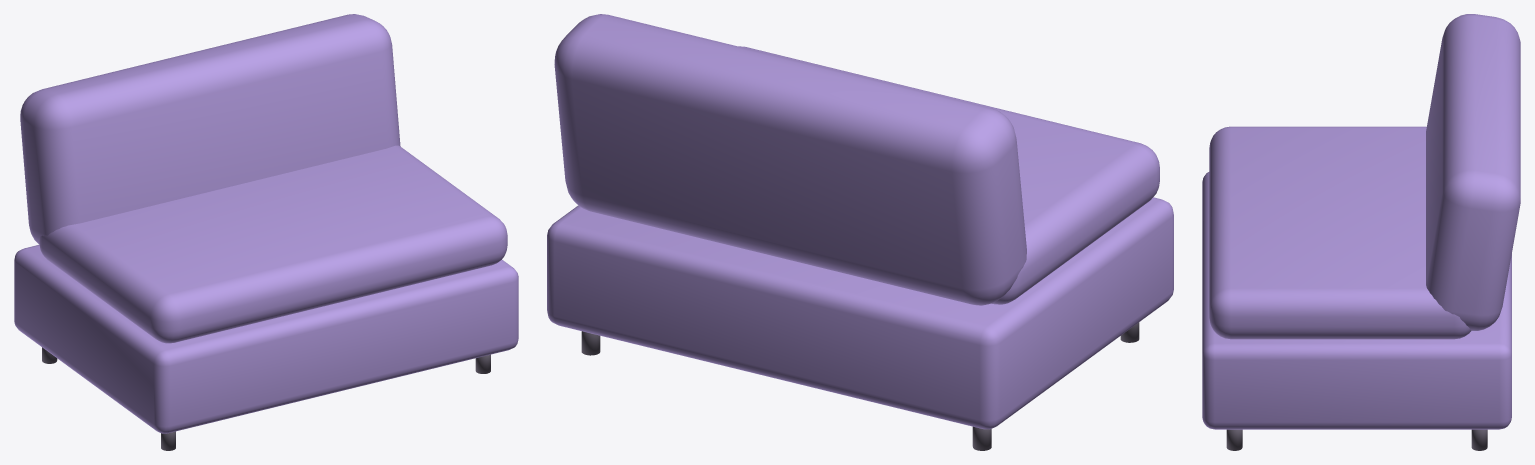
The model's file is sofa_module.glb.
The picture shows the model from 3 angles, left to right: view 1: azimuth 30°, elevation 25°; view 2: azimuth 150°, elevation 25°; view 3: azimuth 270°, elevation 25°; orthographic projection. The views are drawn at different scales.
Parts seen in each view (by area): view 1: base; view 2: base; view 3: base.
Boxes of the visible parts, x1,y1,x2,y2 form: base: (14, 14, 518, 450); base: (547, 14, 1173, 450); base: (1202, 14, 1520, 450).
Size of the model in its own units: 1.2 by 0.8423 by 0.8842.
